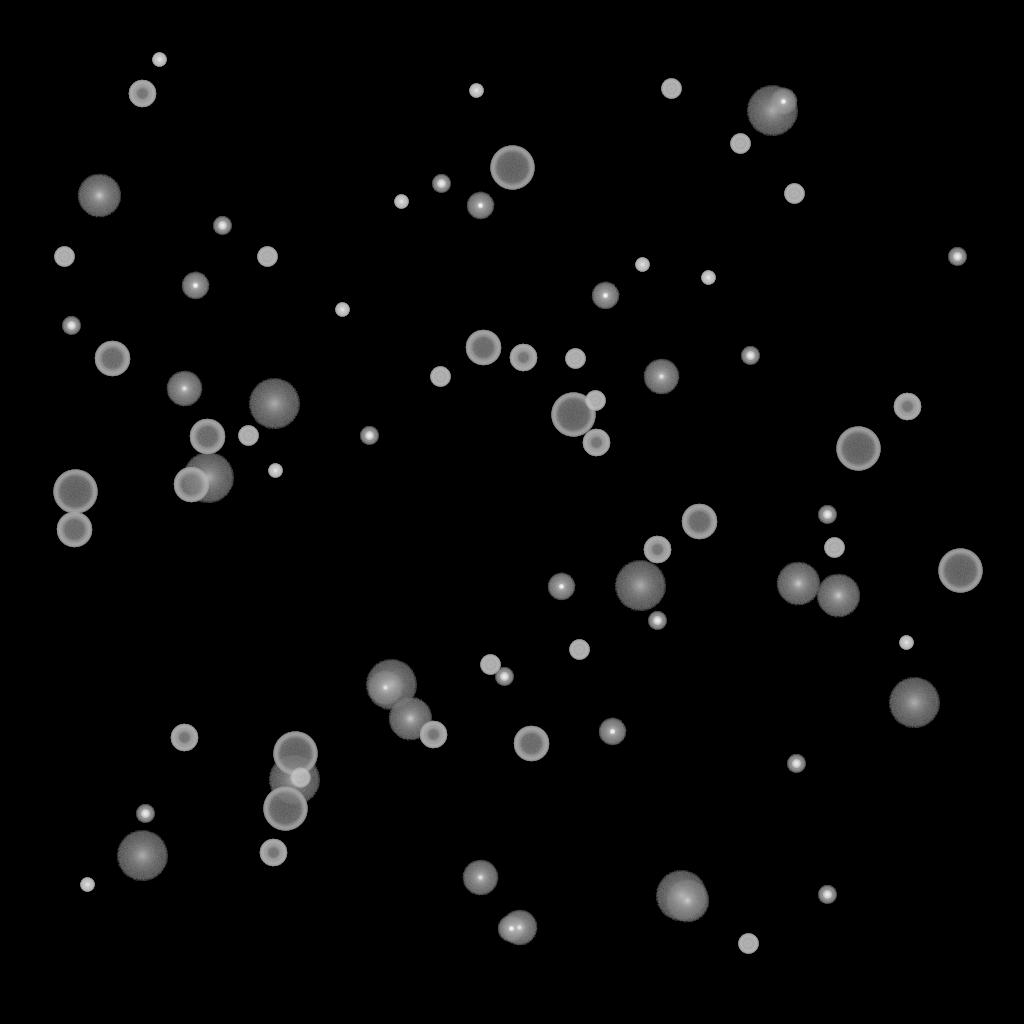depth:-10: (547, 573, 575, 601), (598, 718, 626, 746), (181, 272, 209, 300), (497, 915, 525, 943), (591, 282, 619, 310), (466, 192, 494, 220), (769, 88, 797, 116)
depth:-20: (648, 612, 666, 630), (787, 755, 805, 773), (741, 347, 759, 365), (432, 175, 450, 193), (213, 217, 231, 235), (62, 317, 80, 335), (136, 805, 154, 823), (818, 506, 836, 524), (495, 668, 513, 686), (948, 248, 966, 266), (360, 427, 378, 445), (818, 886, 836, 904)
depth:-30: (394, 195, 408, 209), (80, 878, 94, 892), (701, 271, 715, 285), (335, 303, 349, 317), (469, 84, 483, 98), (899, 636, 913, 650), (268, 464, 282, 478), (635, 258, 649, 272), (152, 53, 166, 67)
depth:-40: (480, 655, 500, 675), (290, 768, 310, 788), (569, 640, 589, 660), (54, 247, 74, 267), (585, 391, 605, 411), (430, 367, 450, 387), (730, 134, 750, 154), (824, 538, 844, 558), (784, 184, 804, 204), (565, 349, 585, 369), (238, 426, 258, 446), (738, 934, 758, 954), (661, 79, 681, 99), (257, 247, 277, 267)
depth:-50: (128, 80, 156, 108), (643, 536, 671, 564), (259, 839, 287, 867), (893, 393, 921, 421), (509, 344, 537, 372), (419, 721, 447, 749), (170, 724, 198, 752), (582, 429, 610, 457)
depth:-60: (513, 726, 549, 762), (173, 467, 209, 503), (189, 419, 225, 455), (56, 512, 92, 548), (681, 504, 717, 540), (465, 330, 501, 366), (94, 341, 130, 377)
depth:-70: (273, 732, 317, 776), (836, 427, 880, 471), (263, 787, 307, 831), (490, 146, 534, 190), (938, 549, 982, 593), (53, 470, 97, 514), (551, 393, 595, 437)
depth:0: (501, 910, 537, 946), (462, 860, 498, 896), (643, 359, 679, 395), (166, 371, 202, 407), (367, 670, 403, 706)
depth:10: (776, 562, 820, 606), (388, 697, 432, 741), (665, 879, 709, 923), (77, 174, 121, 218), (816, 574, 860, 618)
depth:20: (614, 561, 666, 611), (182, 453, 234, 503), (888, 678, 940, 728), (655, 871, 707, 921), (746, 86, 798, 136), (116, 831, 168, 881), (365, 660, 417, 710), (248, 379, 300, 429), (268, 755, 320, 805)
